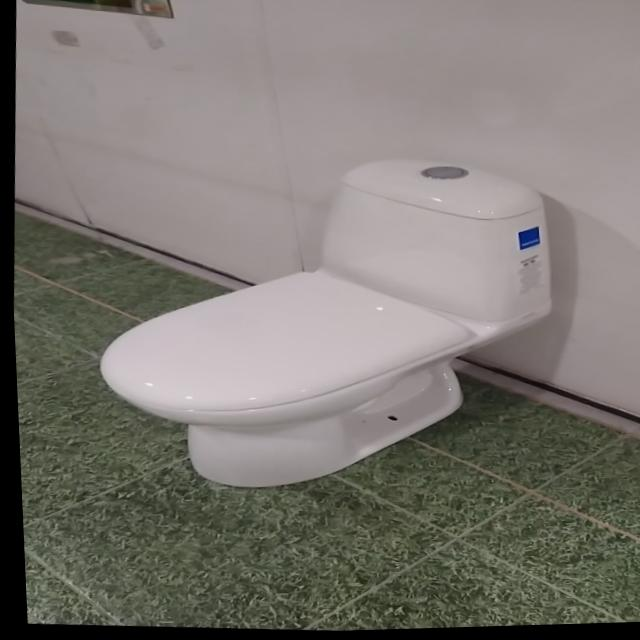toilet: (81, 141, 564, 508)
